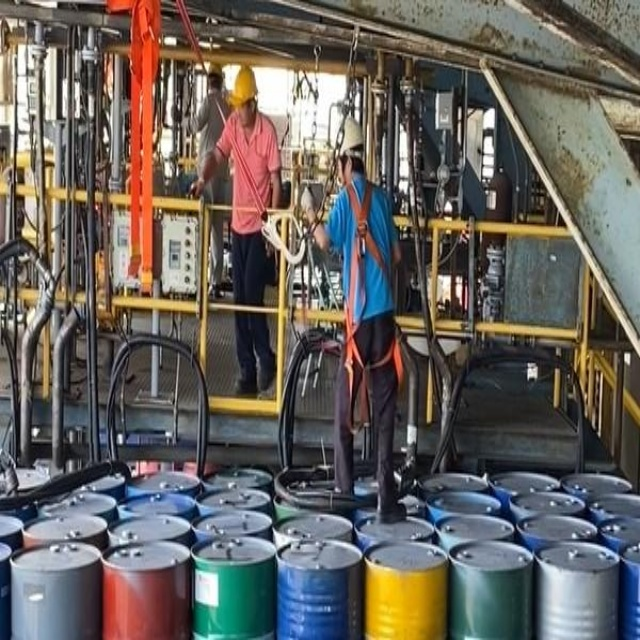Arnes_seguridad: (343, 177, 404, 415)
